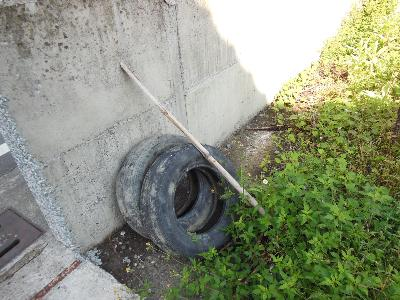tire: (139, 143, 241, 256)
